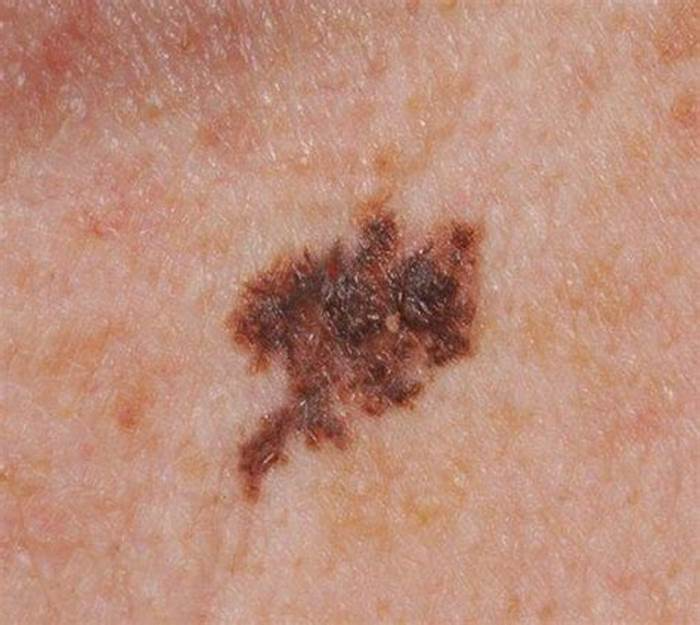Melanoma: (235, 209, 481, 503)
